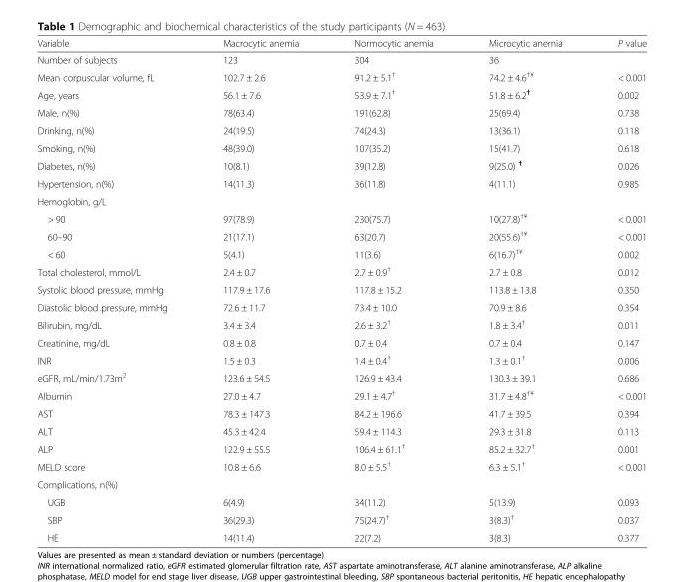table: (36, 37, 646, 542)
table column: (36, 37, 194, 542), (325, 37, 460, 542), (194, 37, 325, 542), (460, 37, 589, 542), (589, 37, 646, 542)
table column header: (36, 37, 646, 51)
table projected row header: (36, 475, 646, 493), (36, 192, 646, 209)
table row: (36, 155, 646, 174), (36, 456, 646, 475), (36, 67, 646, 85), (36, 85, 646, 103), (36, 103, 646, 121), (36, 121, 646, 139), (36, 174, 646, 192), (36, 226, 646, 244), (36, 244, 646, 262), (36, 262, 646, 280), (36, 280, 646, 298), (36, 315, 646, 333), (36, 350, 646, 368), (36, 368, 646, 386), (36, 386, 646, 404), (36, 404, 646, 422), (36, 475, 646, 493), (36, 510, 646, 528), (36, 192, 646, 209), (36, 209, 646, 226), (36, 298, 646, 315), (36, 333, 646, 350), (36, 422, 646, 439), (36, 439, 646, 456), (36, 493, 646, 510), (36, 51, 646, 67), (36, 139, 646, 155), (36, 37, 646, 51), (36, 528, 646, 542)
